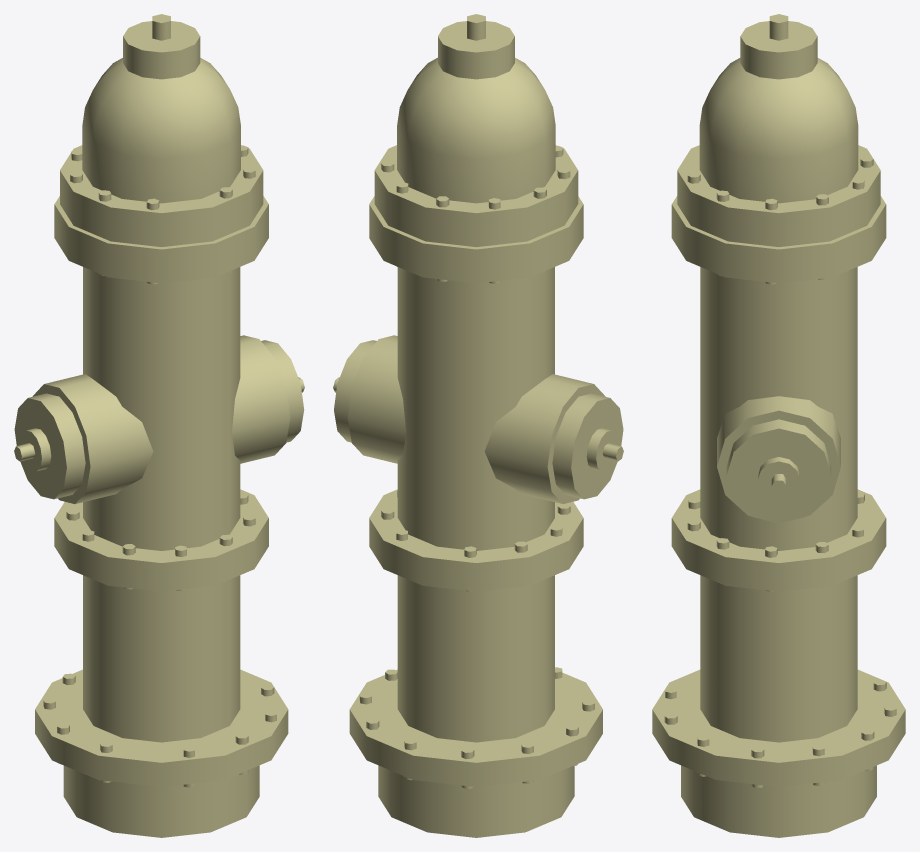
File: WaterStation.fbx
3 views of the same model, side by side, from view 1: azimuth 30°, elevation 25°; view 2: azimuth 150°, elevation 25°; view 3: azimuth 270°, elevation 25° (orthographic).
Parts seen in each view (by area): view 1: WaterStation; view 2: WaterStation; view 3: WaterStation.
Boxes of the visible parts, x1,y1,x2,y2 form: WaterStation: (14,14,304,837); WaterStation: (333,14,623,837); WaterStation: (652,14,905,837).
Bounding box in the file's own units: 0.563 × 1.48 × 0.4366.
